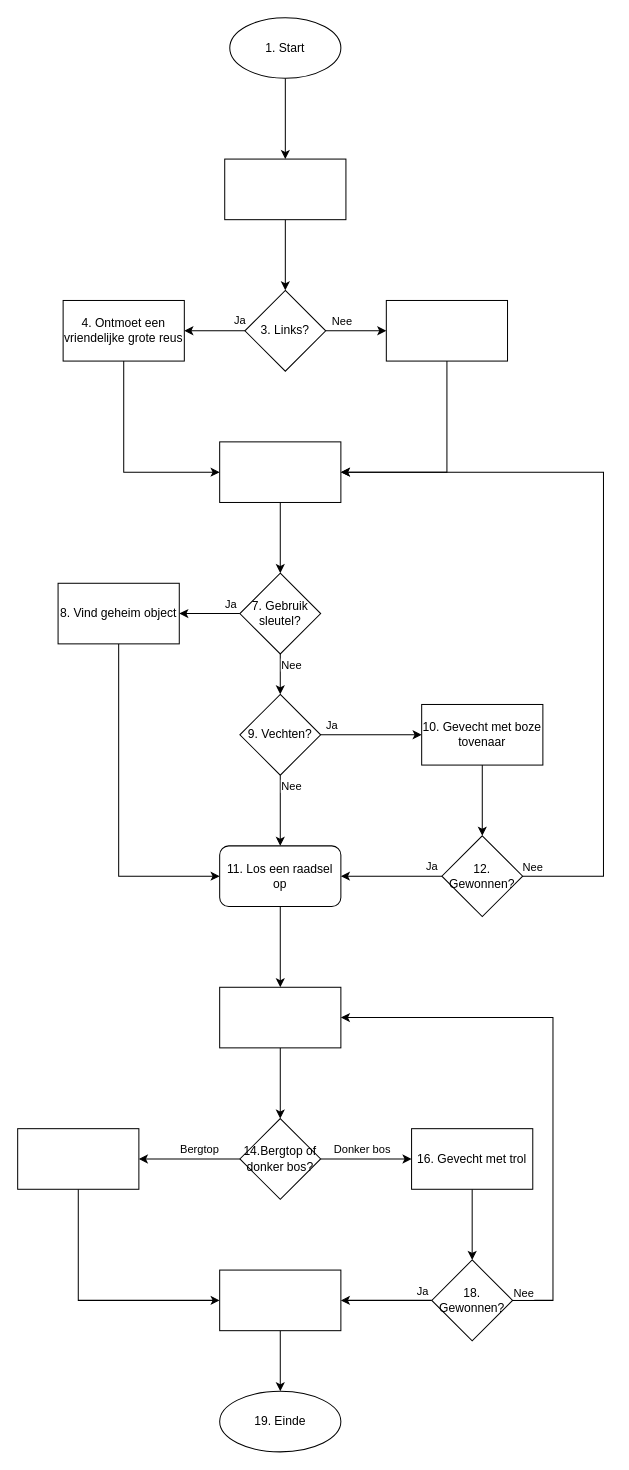
The diagram is 629 pixels wide and 1470 high, and some of its shapes have lost their labels. Each missing label, with the box of its shape:
13. Ontdek een verborgen schatkaart schatkaart: (219, 986, 341, 1048)
15. Ontmoet de wijze man: (17, 1128, 139, 1189)
17. Vind de schat: (219, 1269, 341, 1331)
2. Introductie: (224, 158, 346, 220)
5. Vind een sleutel: (385, 299, 508, 361)
6. Obstakel: gesloten deur: (219, 441, 341, 502)
